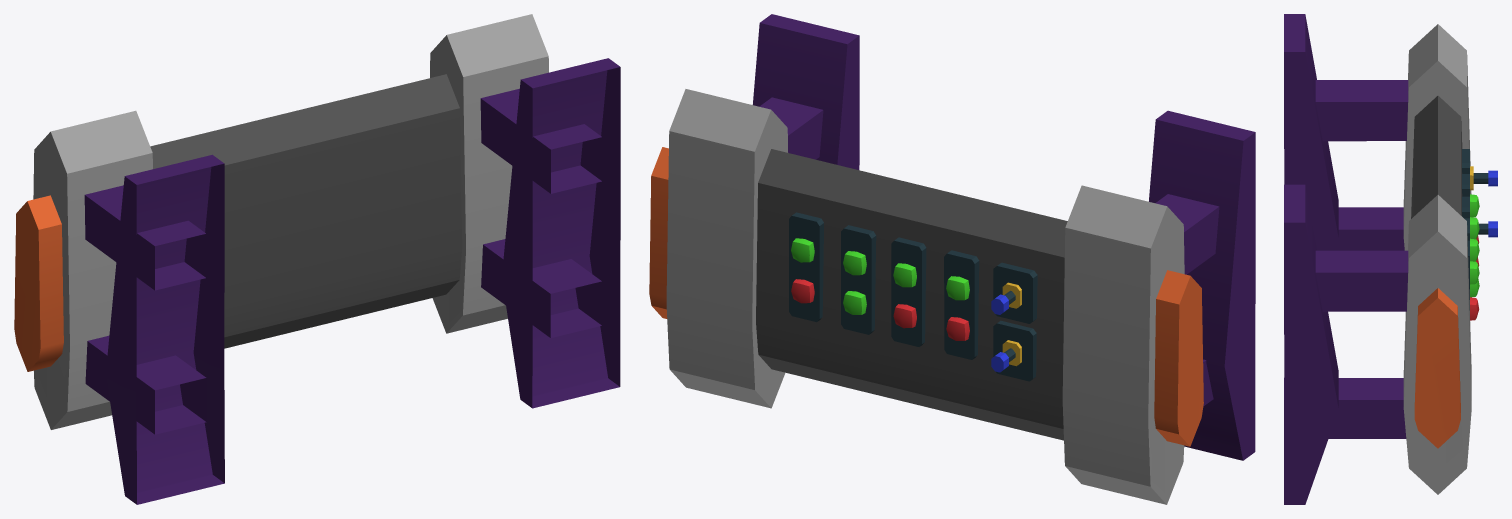
Rendered from Machine 06 Controller.FBX.
3 views of the same model, side by side, from view 1: azimuth 30°, elevation 25°; view 2: azimuth 150°, elevation 25°; view 3: azimuth 270°, elevation 25° (orthographic). The views are drawn at different scales.
Visible parts, largest first — view 1: Machine 06 Controller; view 2: Machine 06 Controller; view 3: Machine 06 Controller.
Boxes of the visible parts, <box> form: Machine 06 Controller: <box>14,14,620,504</box>; Machine 06 Controller: <box>649,14,1255,504</box>; Machine 06 Controller: <box>1284,14,1497,504</box>.
Bounding box in the file's own units: 222 × 128 × 88.04.
1 material, 1 textured.
